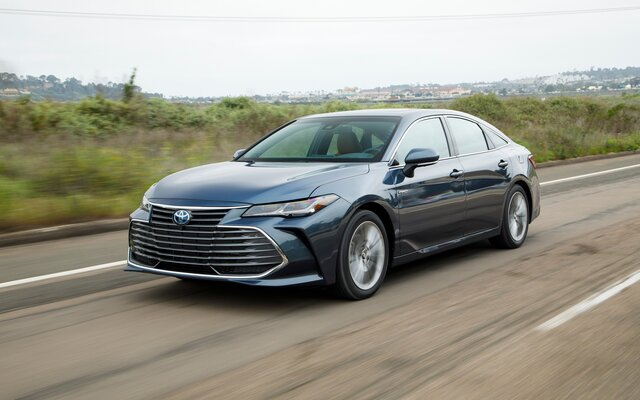car: (122, 107, 541, 302)
